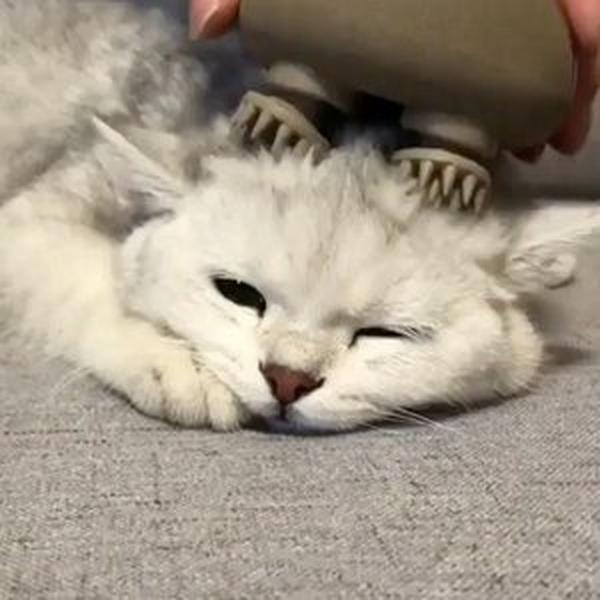michi: (3, 20, 599, 437)
